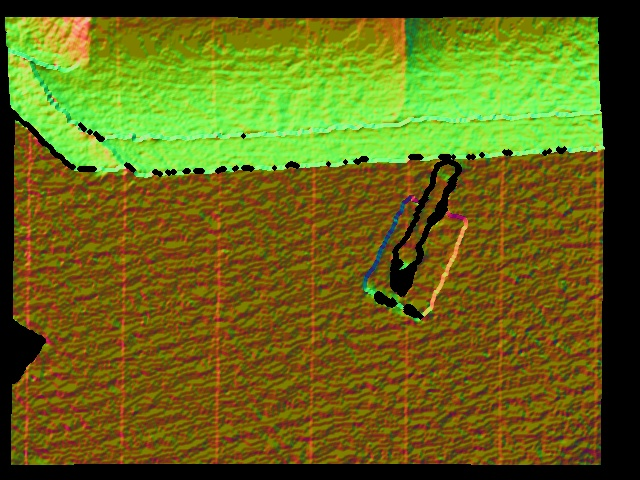station: (364, 160, 475, 321)
